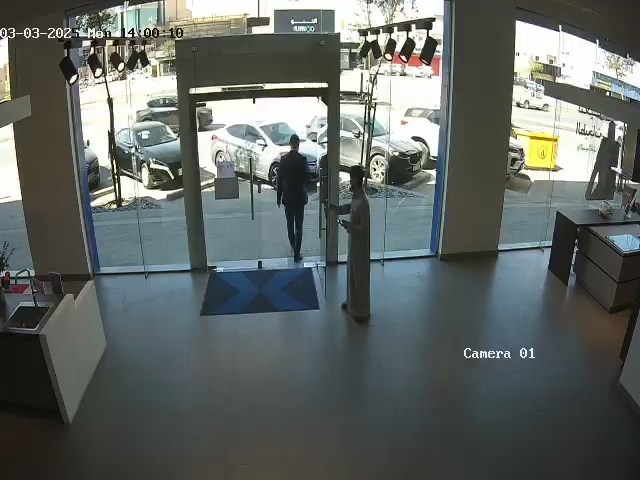male: (332, 164, 372, 322), (276, 134, 310, 264)
